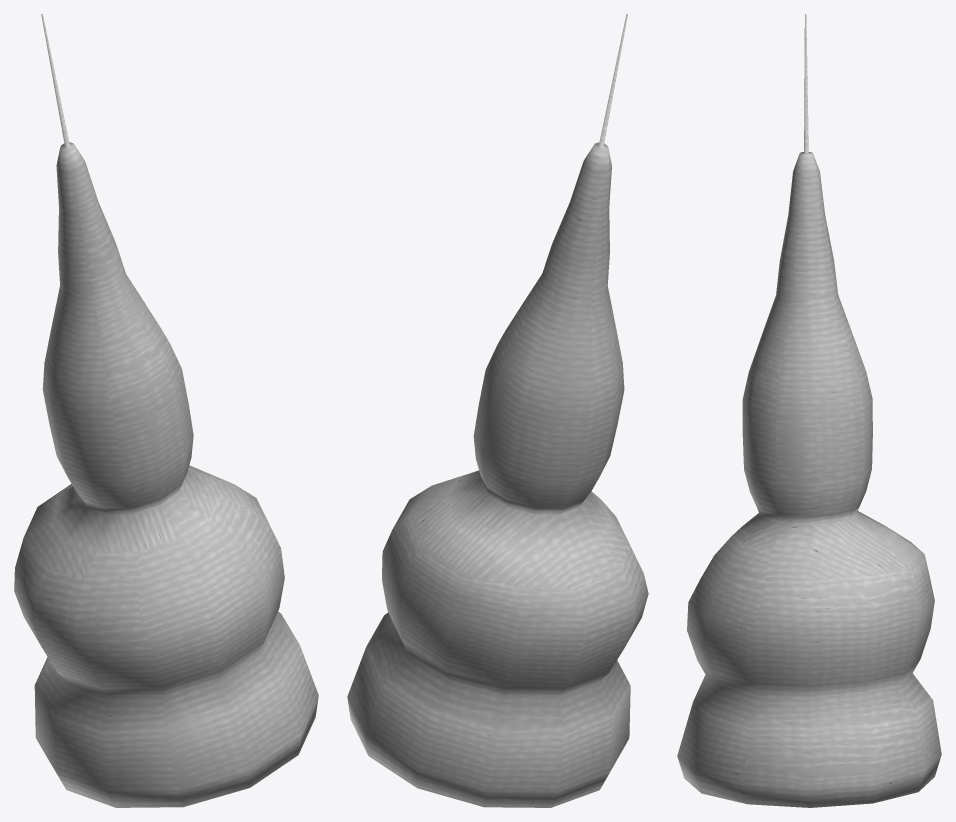
Rendered from f_string.fbx.
3 views of the same model, side by side, from view 1: azimuth 30°, elevation 25°; view 2: azimuth 150°, elevation 25°; view 3: azimuth 270°, elevation 25° (orthographic). The views are drawn at different scales.
Visible parts, largest first — view 1: Circle.001; view 2: Circle.001; view 3: Circle.001.
Boxes of the visible parts, x1,y1,x2,y2 form: Circle.001: [14, 14, 318, 807]; Circle.001: [347, 14, 648, 807]; Circle.001: [677, 14, 941, 807].
Size of the model in its own units: 39.1 by 110 by 36.41.
